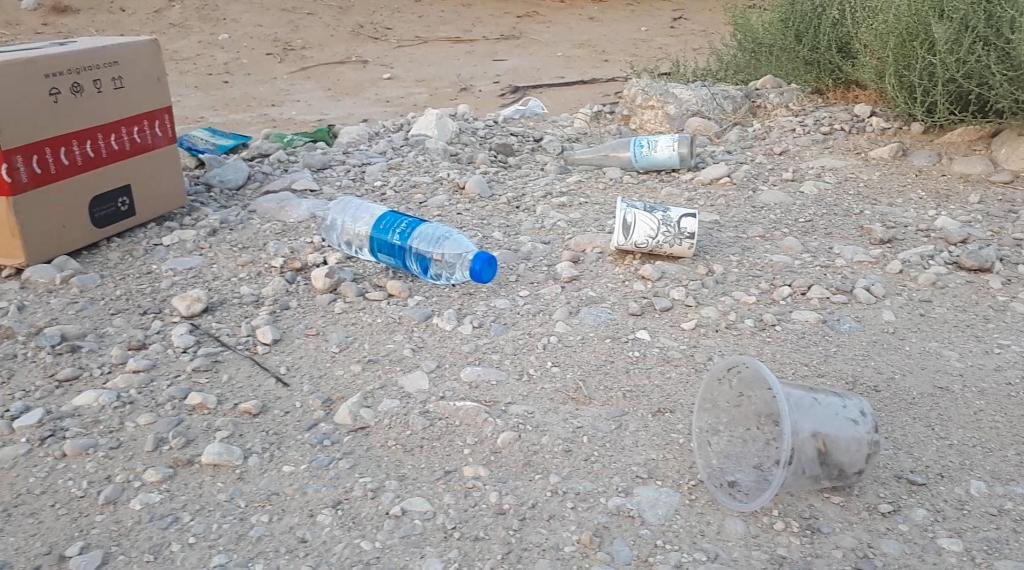garbage: (0, 25, 195, 264), (706, 356, 883, 501), (316, 181, 519, 305), (321, 196, 498, 285), (558, 130, 718, 186), (604, 196, 714, 271), (564, 133, 697, 172), (292, 124, 337, 146), (269, 132, 317, 147)
